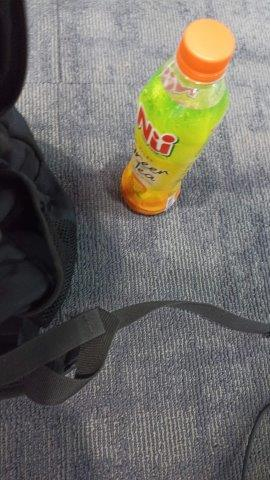botolplastik: (120, 19, 235, 215)
